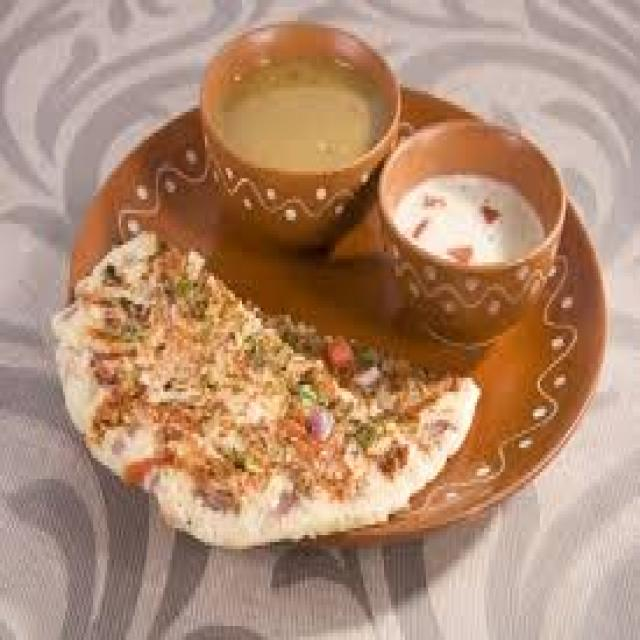DOSA: (58, 231, 475, 546)
